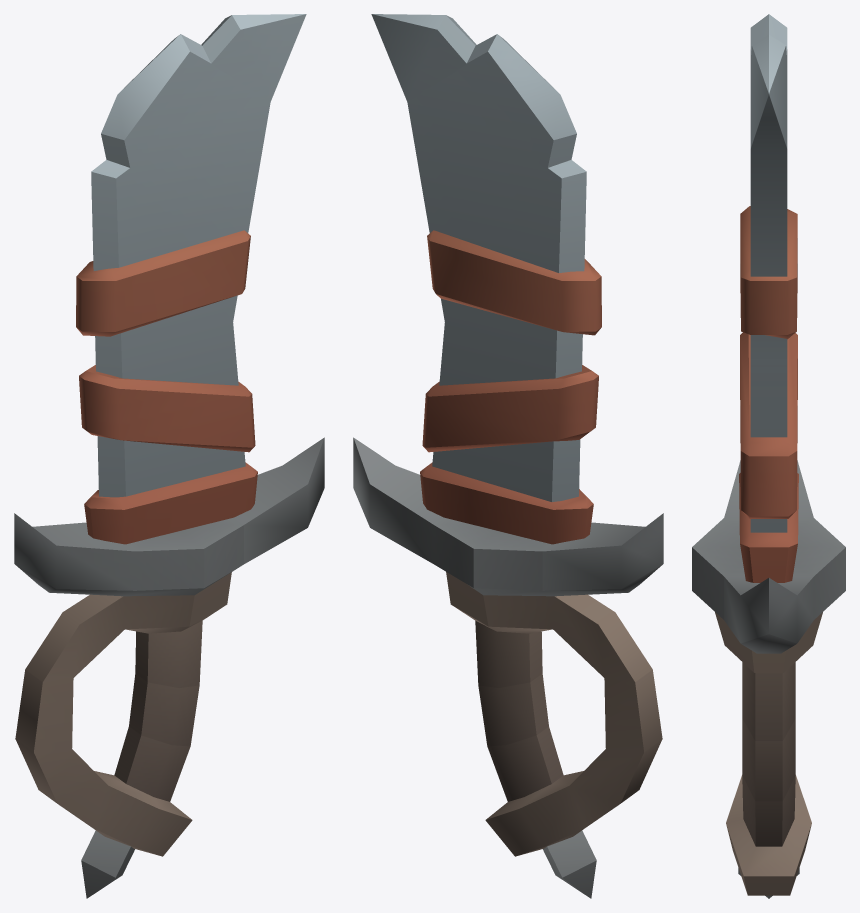
Rendered from Skeleton_Blade.glb.
The picture shows the model from 3 angles, left to right: view 1: azimuth 30°, elevation 25°; view 2: azimuth 150°, elevation 25°; view 3: azimuth 270°, elevation 25°; orthographic projection. The views are drawn at different scales.
Size of the model in its own units: 0.5726 by 1.5 by 0.2223.
Materials: 1 (1 with a texture image).
